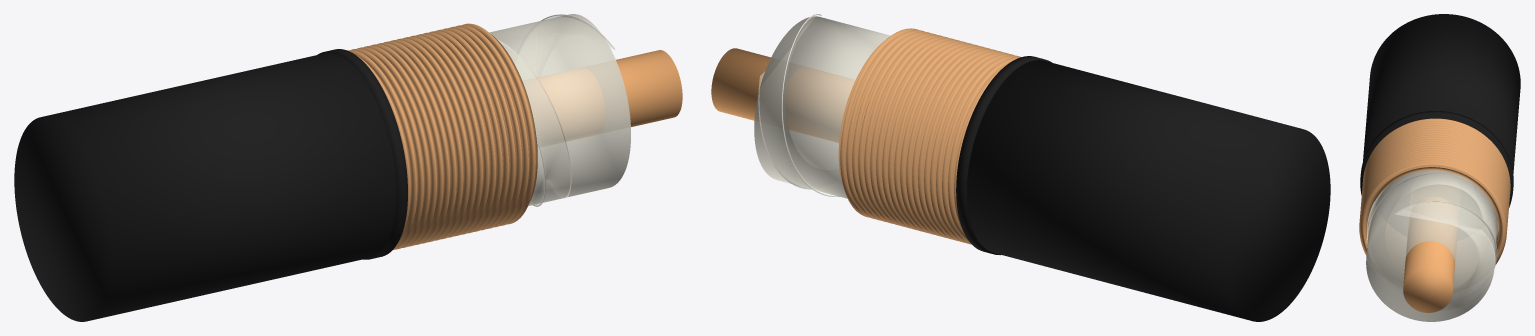
File: rf-lcf114.glb
3 renders of one model, left to right at view 1: azimuth 30°, elevation 25°; view 2: azimuth 150°, elevation 25°; view 3: azimuth 270°, elevation 25°, orthographic. The views are drawn at different scales.
Visible parts, largest first — view 1: black PE jacket body, corrugated copper shield, foam PE dielectric, solid center conductor continuous, jacket cut lip, surface PTFE tape wrap, dark groove shadow pass; view 2: black PE jacket body, corrugated copper shield, foam PE dielectric, solid center conductor continuous, jacket cut lip, surface PTFE tape wrap; view 3: black PE jacket body, foam PE dielectric, corrugated copper shield, surface PTFE tape wrap, solid center conductor continuous, jacket cut lip, subtle PTFE tape lap line.
Boxes of the visible parts, x1,y1,x2,y2 form: black PE jacket body: (14,53,396,321); corrugated copper shield: (348,23,537,249); foam PE dielectric: (489,14,630,205); solid center conductor continuous: (523,50,682,147); jacket cut lip: (317,49,407,259); surface PTFE tape wrap: (498,16,613,205); dark groove shadow pass: (480,73,528,169); black PE jacket body: (967,60,1330,321); corrugated copper shield: (838,28,1021,244); foam PE dielectric: (754,16,890,198); solid center conductor continuous: (711,48,855,142); jacket cut lip: (956,56,1051,255); surface PTFE tape wrap: (758,15,840,195); black PE jacket body: (1363,14,1520,173); foam PE dielectric: (1366,170,1497,321); corrugated copper shield: (1359,118,1510,264); surface PTFE tape wrap: (1366,171,1498,304); solid center conductor continuous: (1403,197,1457,312); jacket cut lip: (1360,111,1513,207); subtle PTFE tape lap line: (1366,198,1497,267).
Bounding box in the file's own units: 6.69 × 2.07 × 2.18.
